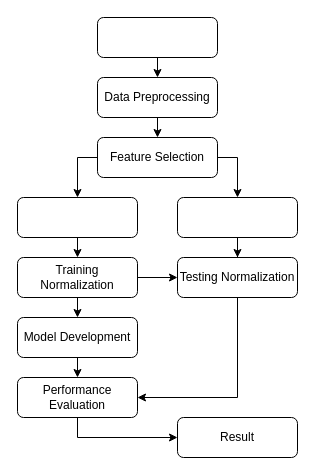
This 315x475 diagram has some shape labels left out. Each missing label, with the centre of its shape:
"Dataset" belongs at point 157,37.
"Testing Dataset" belongs at point 237,217.
"Training Dataset" belongs at point 77,217.
